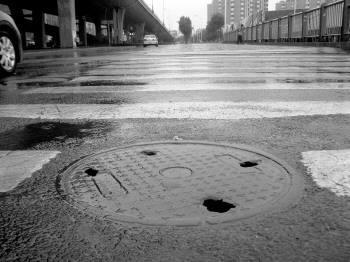wellcover: (60, 137, 314, 229)
